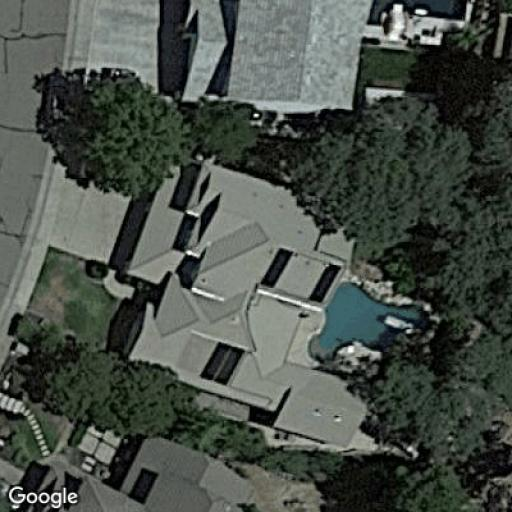solar-panel: (198, 338, 247, 388), (256, 246, 296, 290), (306, 260, 343, 306)
